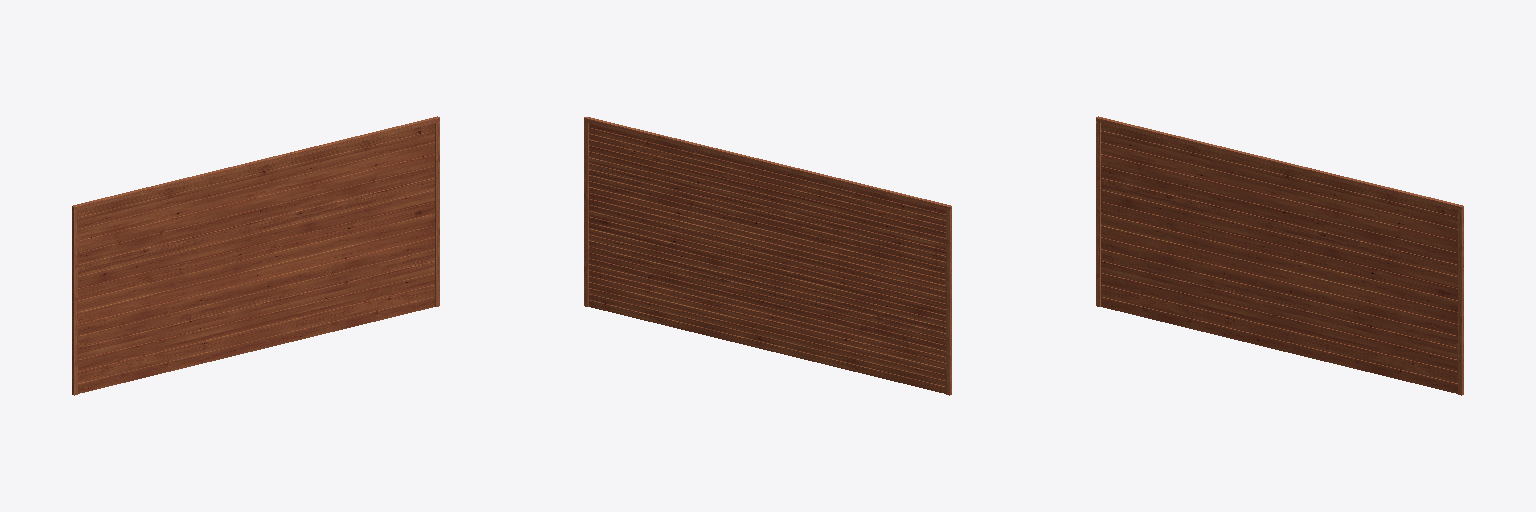
3 views of the same model, side by side, from view 1: azimuth 30°, elevation 25°; view 2: azimuth 150°, elevation 25°; view 3: azimuth 330°, elevation 25° (orthographic).
Parts seen in each view (by area): view 1: wall_planks, trim_top, trim_left, trim_right; view 2: wall_planks, trim_top, trim_left, trim_right; view 3: wall_planks, trim_top, trim_right, trim_left.
Part boxes in pixels (x1,y1,x2,y2): wall_planks: (78, 124, 434, 393); trim_top: (72, 116, 439, 210); trim_left: (72, 211, 77, 395); trim_right: (435, 122, 439, 306); wall_planks: (589, 124, 945, 393); trim_top: (584, 117, 951, 210); trim_left: (946, 211, 951, 395); trim_right: (584, 122, 588, 306); wall_planks: (1101, 124, 1457, 393); trim_top: (1096, 116, 1463, 210); trim_right: (1458, 211, 1463, 395); trim_left: (1096, 122, 1100, 306).
Bounding box in the file's own units: 192 × 94.5 × 1.82.
Materials: 2 (2 with a texture image).